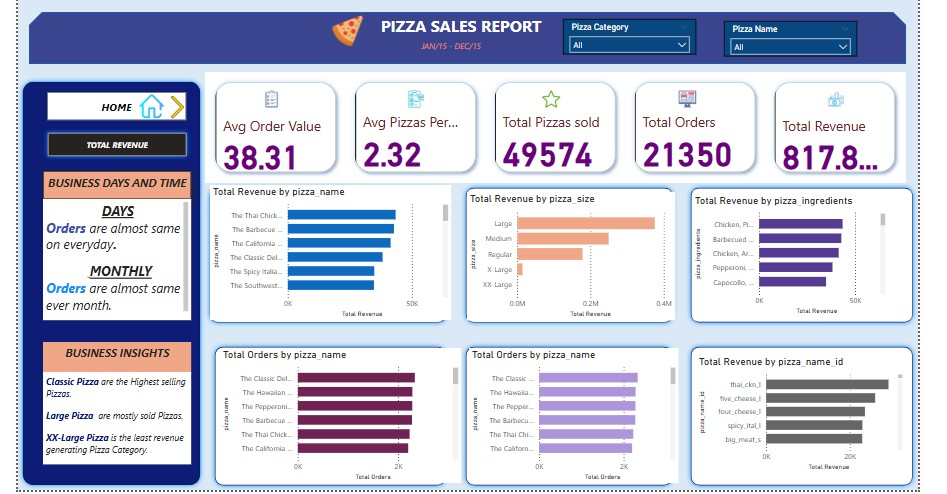

The page's visual inventory and layout, read from the dashboard file:
{"tool":"powerbi","page":{"name":"TOTAL REVENUE","canvas":[1500,820],"ordinal":1},"visuals":[{"type":"cardVisual","fields":{"Data":["pizza_sales.Avg order value","pizza_sales.avg pizzas per order","pizza_sales.Total Pizzas sold","pizza_sales.Total Orders","pizza_sales.Total Revenue"]},"box":[311.9,123.7,1167.8,184.7],"z":0},{"type":"shape","box":[18.3,23.3,1461.7,86.7],"z":1000},{"type":"textbox","box":[591.7,23.3,293.3,53.3],"z":2000},{"type":"textbox","box":[655,66.7,133.3,31.7],"z":3000},{"type":"image","box":[506.7,23.3,85,63.3],"z":4000},{"type":"shape","box":[311.9,308.5,410.2,240.7],"z":5000},{"type":"shape","box":[0,132.2,311.9,688.1],"z":7000},{"type":"shape","box":[739,308.5,361,240.7],"z":8000},{"type":"shape","box":[320.3,572.9,401.7,247.5],"z":10000},{"type":"shape","box":[739,572.9,361,247.5],"z":11000},{"type":"shape","box":[1113.6,308.5,386.4,240.7],"z":12000},{"type":"slicer","fields":{"Values":["pizza_sales.pizza_category"]},"box":[908.5,35.6,222,59.3],"z":13000},{"type":"textbox","box":[42.4,288.1,247.5,47.5],"z":16000},{"type":"textbox","box":[42.4,335.6,247.5,201.7],"z":17000},{"type":"textbox","box":[42.4,572.9,247.5,50.8],"z":18000},{"type":"textbox","box":[42.4,623.7,247.5,154.2],"z":20000},{"type":"slicer","fields":{"Values":["pizza_sales.pizza_name"]},"box":[1176.3,39,222,59.3],"z":22000},{"type":"shape","box":[1113.6,572.9,386.4,247.5],"z":22001},{"type":"barChart","fields":{"Category":["pizza_sales.pizza_name"],"Y":["pizza_sales.Total Revenue"]},"box":[320.3,311.9,401.7,225.4],"z":22002},{"type":"barChart","fields":{"Category":["pizza_sales.pizza_size"],"Y":["pizza_sales.Total Revenue"]},"box":[749.2,323.7,347.5,213.6],"z":22003},{"type":"barChart","fields":{"Category":["pizza_sales.pizza_name"],"Y":["pizza_sales.Total Orders"]},"box":[337.3,583.1,401.7,225.4],"z":22004},{"type":"barChart","fields":{"Category":["pizza_sales.pizza_name"],"Y":["pizza_sales.Total Orders"]},"box":[750.8,583.1,349.2,225.4],"z":22005},{"type":"barChart","fields":{"Category":["pizza_sales.pizza_ingredients"],"Y":["pizza_sales.Total Revenue"]},"box":[1123.7,327.1,327.1,205.1],"z":22006},{"type":"barChart","fields":{"Category":["pizza_sales.pizza_name_id"],"Y":["pizza_sales.Total Revenue"]},"box":[1130.5,594.9,349.2,196.6],"z":22007},{"type":"pageNavigator","box":[49.2,155.9,232.2,47.5],"z":22008},{"type":"pageNavigator","box":[42.4,216.9,247.5,55.9],"z":22009},{"type":"image","box":[178,154.2,89.8,50.8],"z":22010},{"type":"image","box":[239,157.6,55.9,47.5],"z":22011}]}

Visuals, with their boxes on the page's 1500x820 design canvas (x1, y1, x2, y2). These are canvas units, not pixel positions in the 947x494 screenshot, which may show the page scaled, cropped or inside an application window:
cardVisual - pizza_sales.Avg order value x pizza_sales.avg pizzas per order: (312,124,1480,308)
shape: (18,23,1480,110)
textbox: (592,23,885,77)
textbox: (655,67,788,98)
image: (507,23,592,87)
shape: (312,308,722,549)
shape: (0,132,312,820)
shape: (739,308,1100,549)
shape: (320,573,722,820)
shape: (739,573,1100,820)
shape: (1114,308,1500,549)
slicer - pizza_sales.pizza_category: (908,36,1130,95)
textbox: (42,288,290,336)
textbox: (42,336,290,537)
textbox: (42,573,290,624)
textbox: (42,624,290,778)
slicer - pizza_sales.pizza_name: (1176,39,1398,98)
shape: (1114,573,1500,820)
barChart - pizza_sales.pizza_name x pizza_sales.Total Revenue: (320,312,722,537)
barChart - pizza_sales.pizza_size x pizza_sales.Total Revenue: (749,324,1097,537)
barChart - pizza_sales.pizza_name x pizza_sales.Total Orders: (337,583,739,808)
barChart - pizza_sales.pizza_name x pizza_sales.Total Orders: (751,583,1100,808)
barChart - pizza_sales.pizza_ingredients x pizza_sales.Total Revenue: (1124,327,1451,532)
barChart - pizza_sales.pizza_name_id x pizza_sales.Total Revenue: (1130,595,1480,792)
pageNavigator: (49,156,281,203)
pageNavigator: (42,217,290,273)
image: (178,154,268,205)
image: (239,158,295,205)
